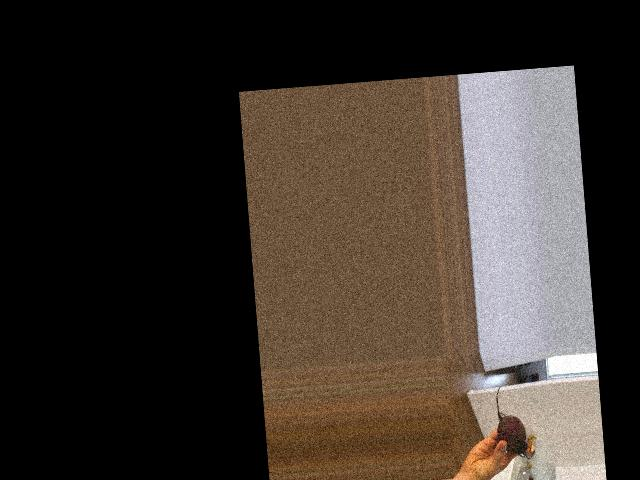beet: (493, 383, 528, 458)
